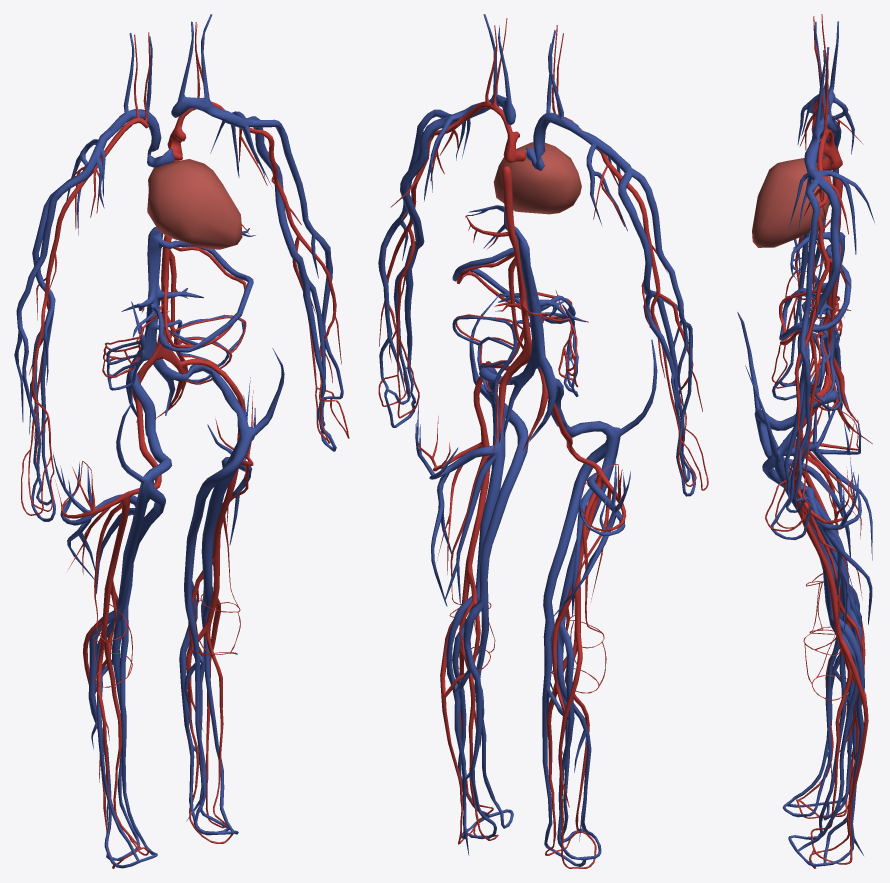
The model's file is pediatric_infant_male.cardiovascular.LOD2.glb.
3 views of the same model, side by side, from view 1: azimuth 30°, elevation 25°; view 2: azimuth 150°, elevation 25°; view 3: azimuth 270°, elevation 25° (orthographic). The views are drawn at different scales.
Visible parts, largest first — view 1: PEDIATRIC.INFANT.MALE.CARDIOVASCULAR.BLOOD_IN_LARGE_VEINS, PEDIATRIC.INFANT.MALE.CARDIOVASCULAR.BLOOD_IN_LARGE_ARTERIES, PEDIATRIC.INFANT.MALE.CARDIOVASCULAR.HEART_WALL; view 2: PEDIATRIC.INFANT.MALE.CARDIOVASCULAR.BLOOD_IN_LARGE_VEINS, PEDIATRIC.INFANT.MALE.CARDIOVASCULAR.BLOOD_IN_LARGE_ARTERIES, PEDIATRIC.INFANT.MALE.CARDIOVASCULAR.HEART_WALL; view 3: PEDIATRIC.INFANT.MALE.CARDIOVASCULAR.BLOOD_IN_LARGE_VEINS, PEDIATRIC.INFANT.MALE.CARDIOVASCULAR.BLOOD_IN_LARGE_ARTERIES, PEDIATRIC.INFANT.MALE.CARDIOVASCULAR.HEART_WALL.
Part boxes in pixels (x1,y1,x2,y2): PEDIATRIC.INFANT.MALE.CARDIOVASCULAR.BLOOD_IN_LARGE_VEINS: (14,14,343,868); PEDIATRIC.INFANT.MALE.CARDIOVASCULAR.BLOOD_IN_LARGE_ARTERIES: (21,22,349,868); PEDIATRIC.INFANT.MALE.CARDIOVASCULAR.HEART_WALL: (147,159,242,249); PEDIATRIC.INFANT.MALE.CARDIOVASCULAR.BLOOD_IN_LARGE_VEINS: (378,14,695,866); PEDIATRIC.INFANT.MALE.CARDIOVASCULAR.BLOOD_IN_LARGE_ARTERIES: (378,18,708,868); PEDIATRIC.INFANT.MALE.CARDIOVASCULAR.HEART_WALL: (493,142,581,214); PEDIATRIC.INFANT.MALE.CARDIOVASCULAR.BLOOD_IN_LARGE_VEINS: (737,21,874,866); PEDIATRIC.INFANT.MALE.CARDIOVASCULAR.BLOOD_IN_LARGE_ARTERIES: (765,14,872,868); PEDIATRIC.INFANT.MALE.CARDIOVASCULAR.HEART_WALL: (752,158,831,247).
Bounding box in the file's own units: 0.256 × 0.6319 × 0.0969.
